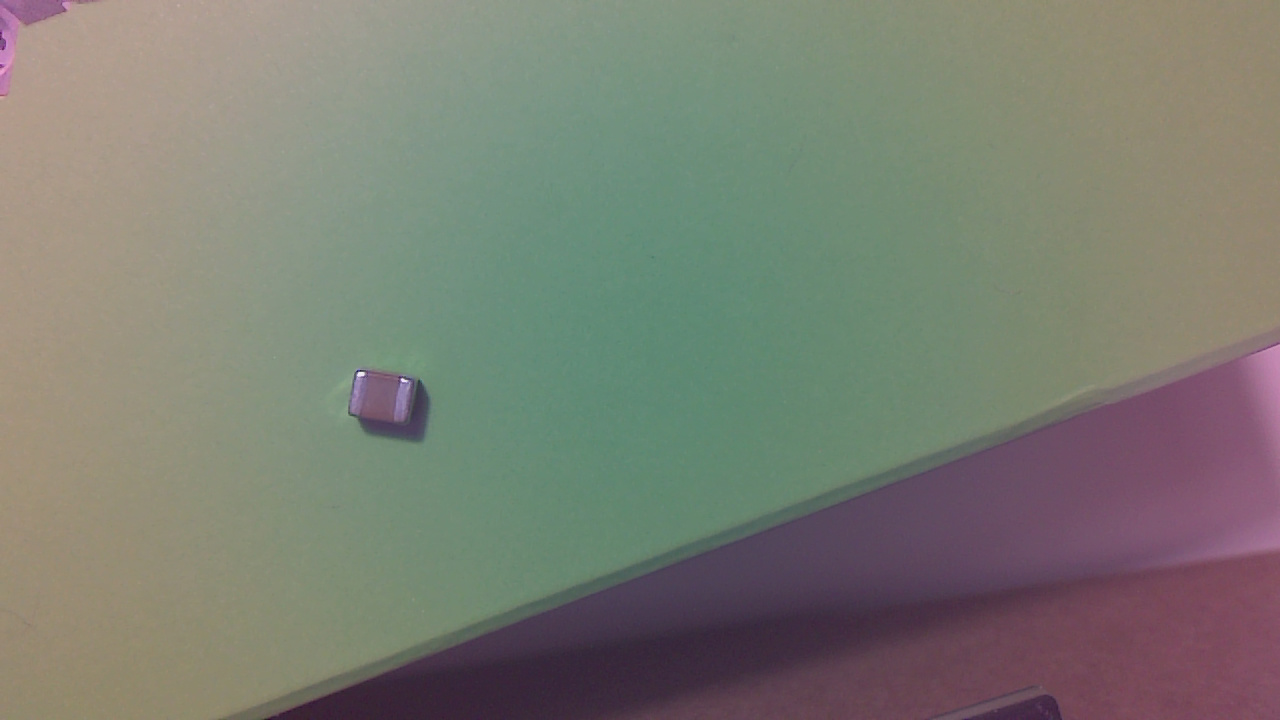Condensator: (353, 370, 425, 440)
